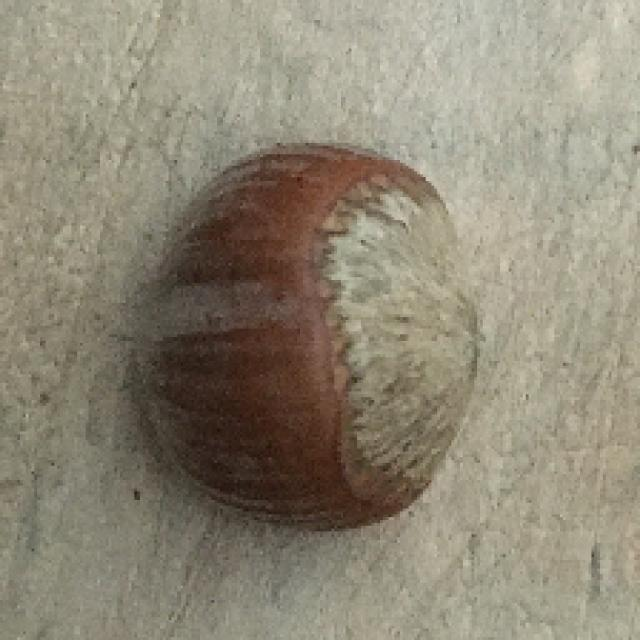qualityHazelnut: (128, 137, 487, 536)
